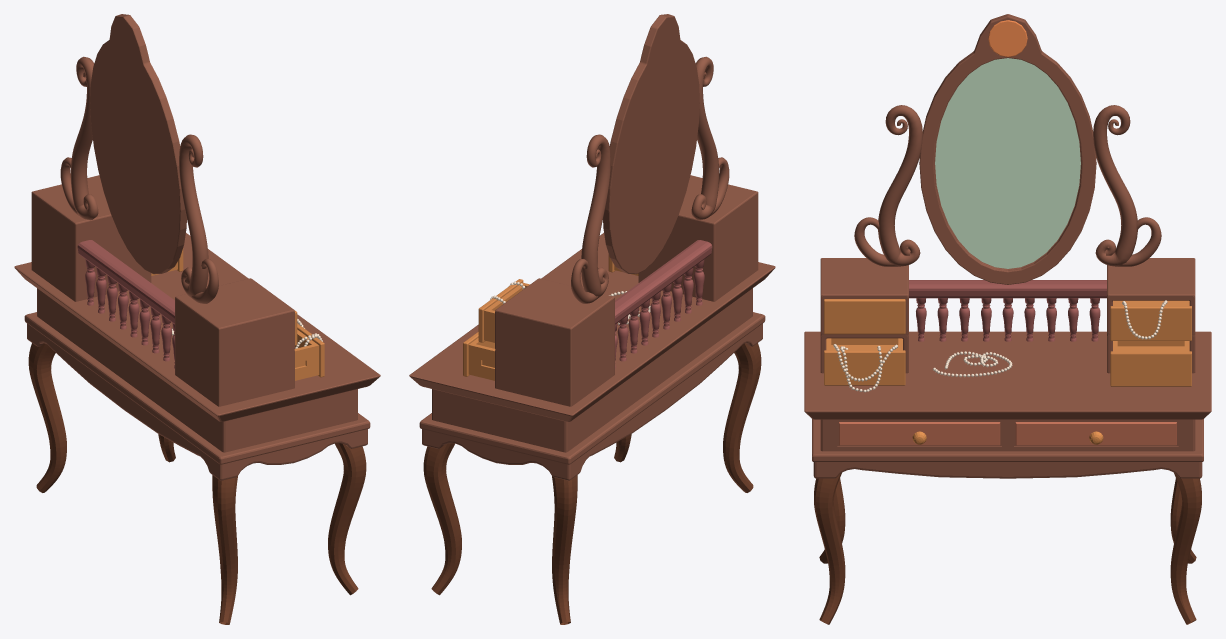
The model's file is Schminktisch.glb.
3 renders of one model, left to right at view 1: azimuth 30°, elevation 25°; view 2: azimuth 150°, elevation 25°; view 3: azimuth 270°, elevation 25°, orthographic.
Parts seen in each view (by area): view 1: Cube.009; view 2: Cube.009; view 3: Cube.009.
Boxes of the visible parts, x1=… form: Cube.009: x1=14, y1=14, x2=380, y2=624; Cube.009: x1=409, y1=14, x2=775, y2=624; Cube.009: x1=804, y1=14, x2=1211, y2=624.
Size of the model in its own units: 0.6062 by 1.93 by 1.31.
Materials: 2 (1 with a texture image).
